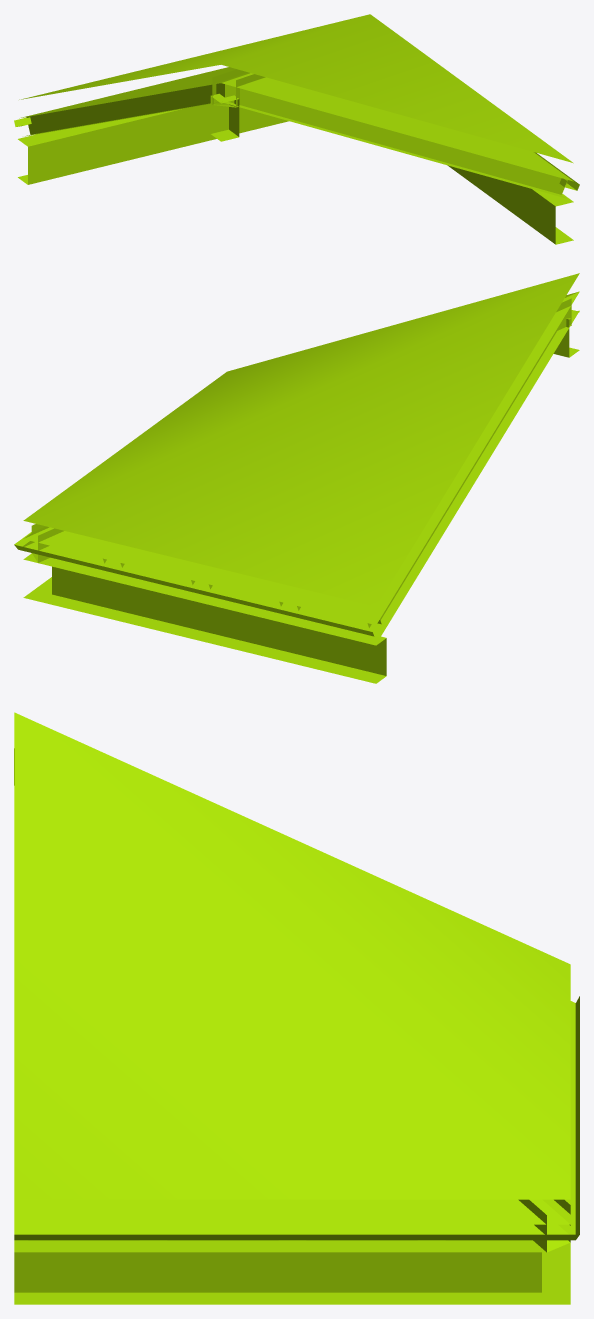
Rendered from WallKit_Hip_COL.fbx.
3 views of the same model, one above another, from view 1: azimuth 30°, elevation 25°; view 2: azimuth 150°, elevation 25°; view 3: azimuth 270°, elevation 25° (orthographic). The views are drawn at different scales.
Visible parts, largest first — view 1: WallKit_Hip_COL; view 2: WallKit_Hip_COL; view 3: WallKit_Hip_COL.
Part boxes in pixels (left/top/right/bottom): WallKit_Hip_COL: left=14, top=14, right=579, bottom=244; WallKit_Hip_COL: left=14, top=273, right=579, bottom=683; WallKit_Hip_COL: left=14, top=712, right=579, bottom=1304.
Size of the model in its own units: 407 by 283 by 407.
